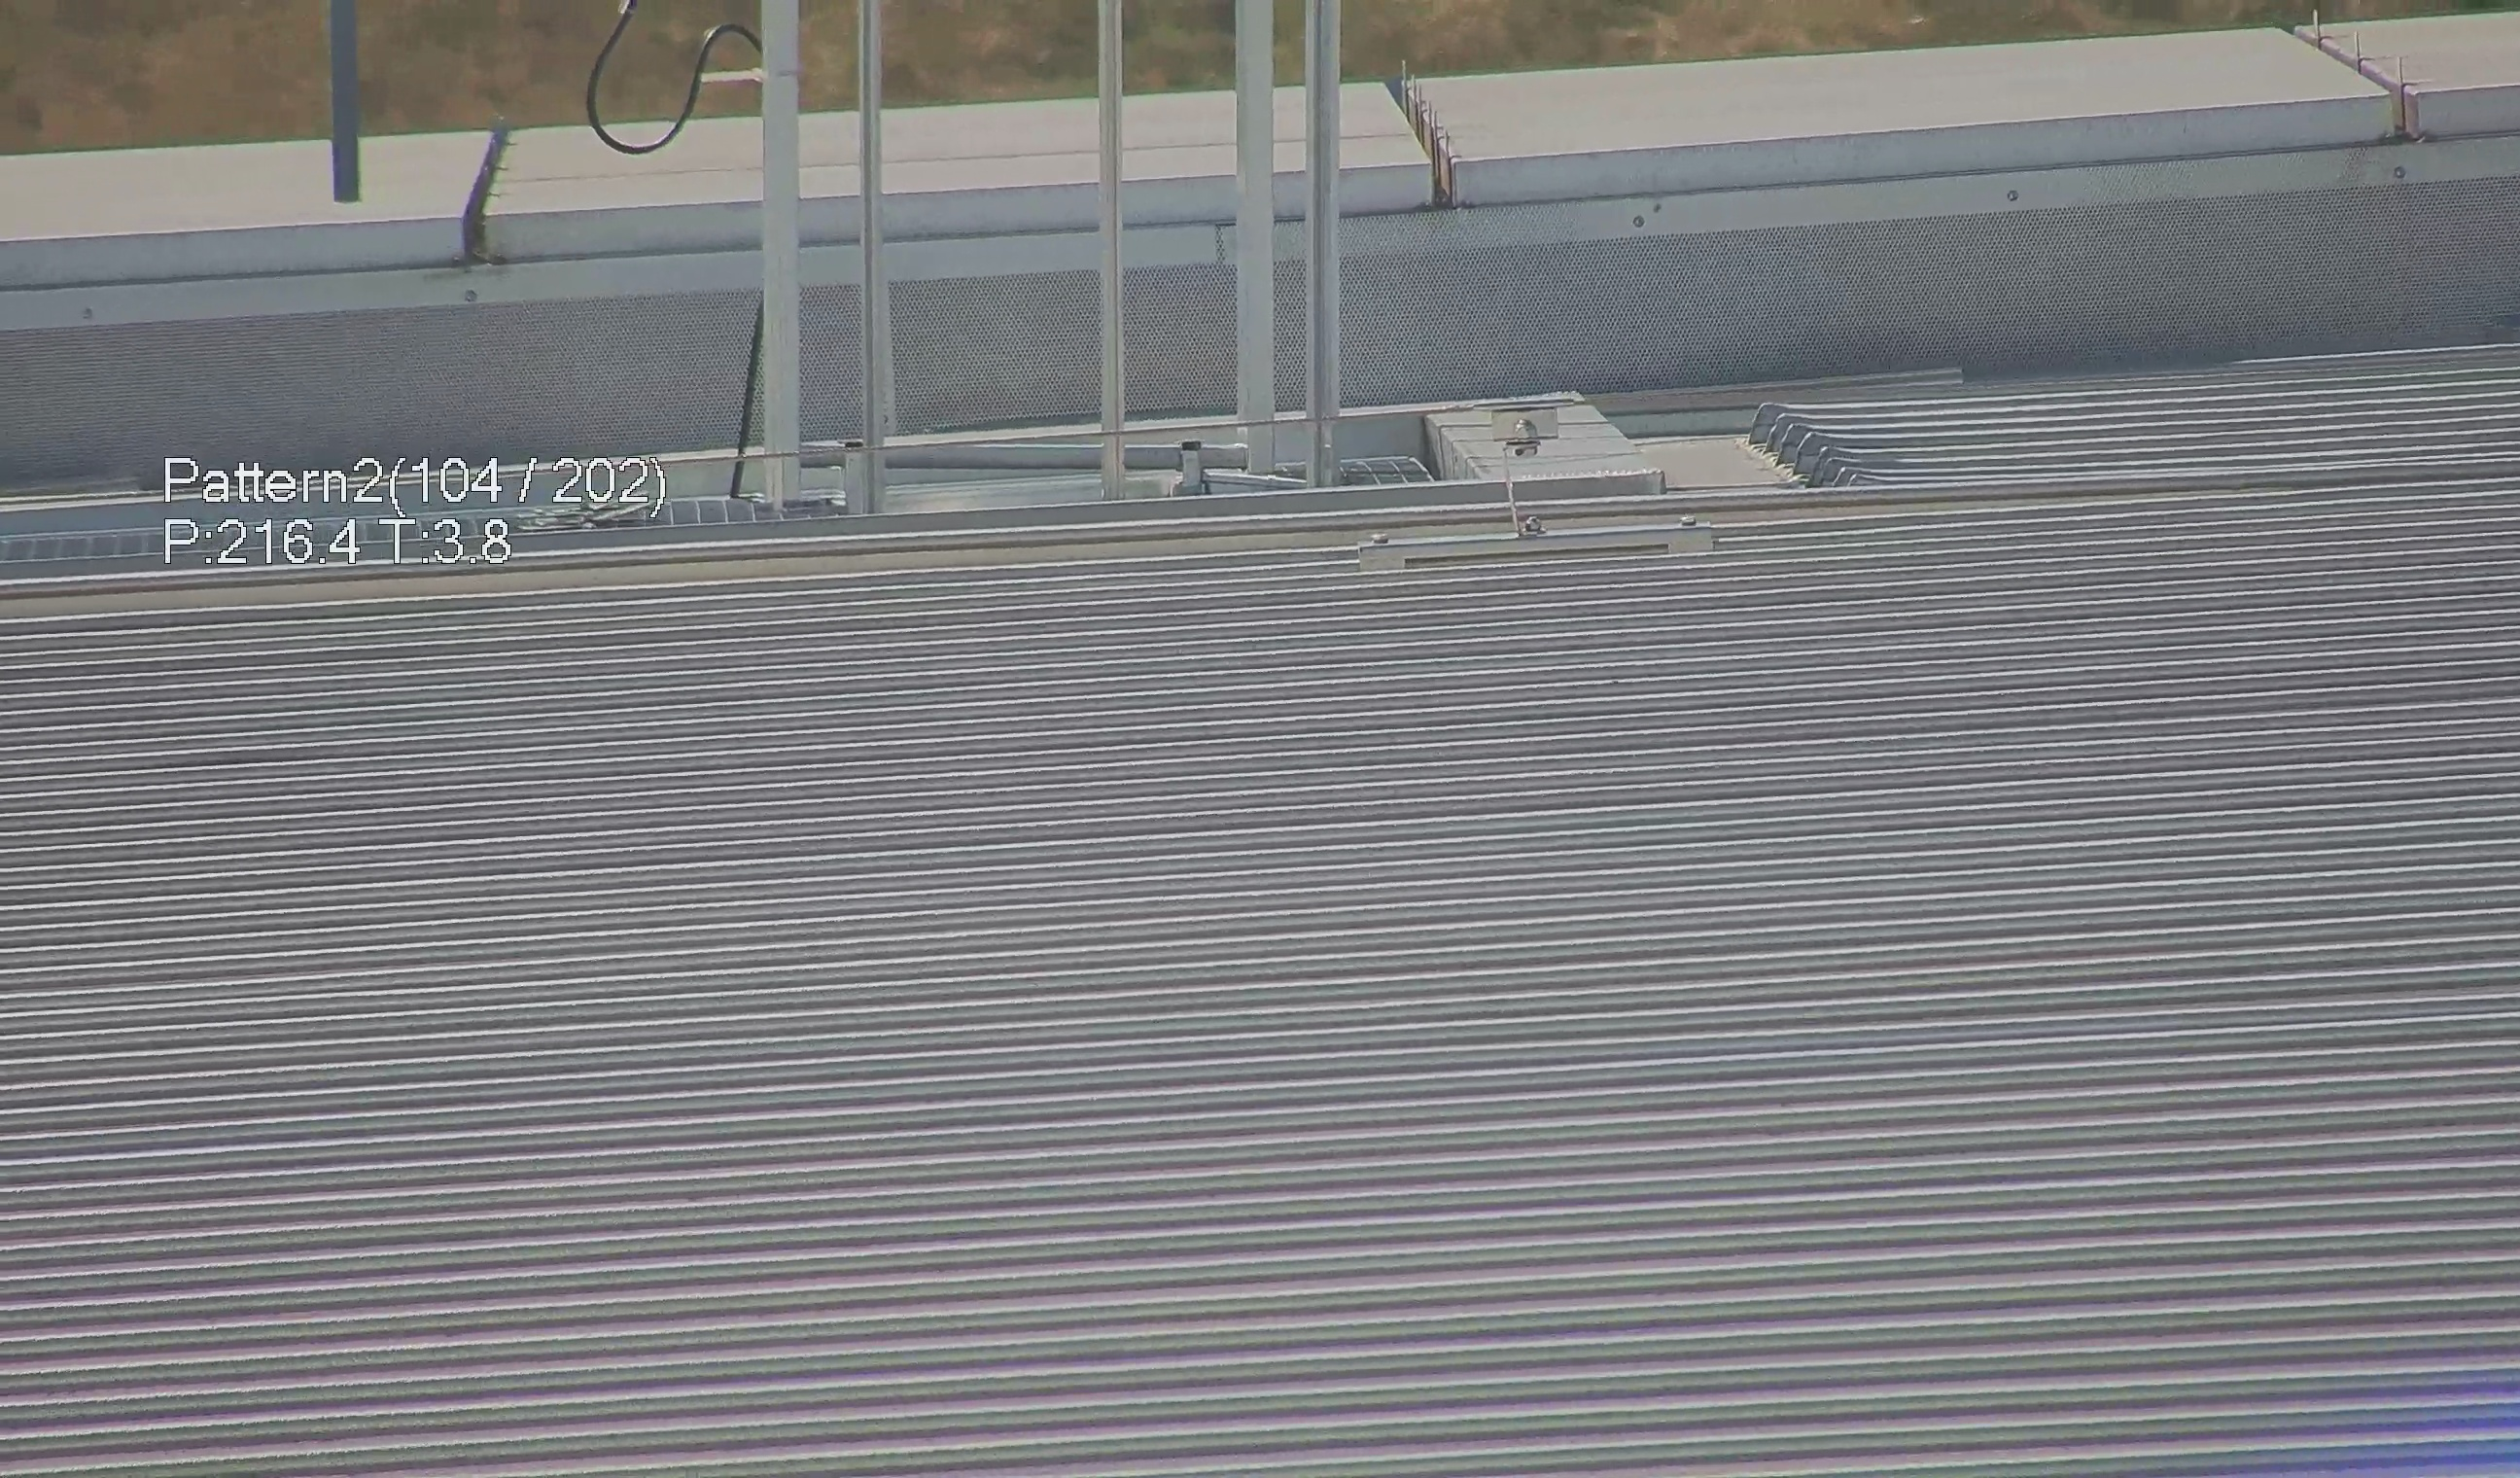Other: (572, 0, 770, 146)
